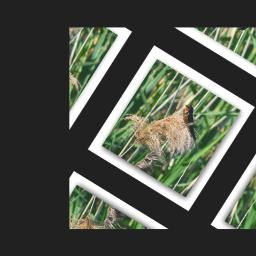Swallow: (168, 101, 214, 146)
